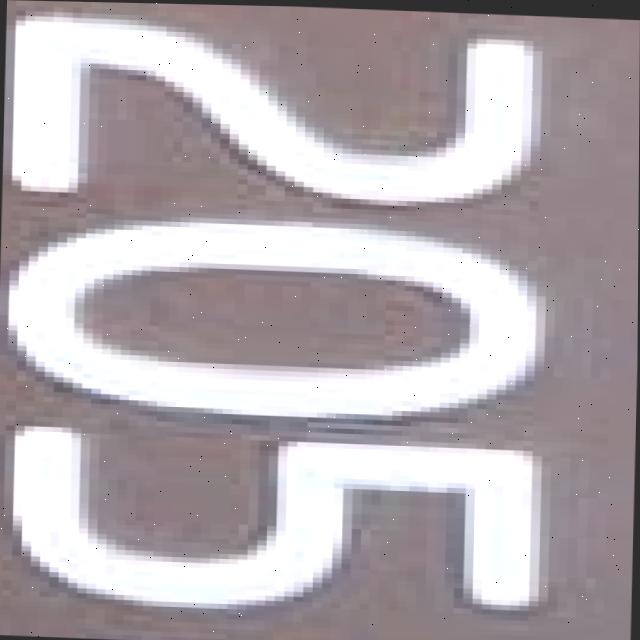character: (0, 199, 557, 431), (0, 418, 553, 633), (1, 5, 561, 217)
